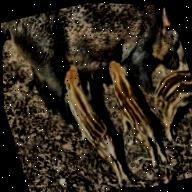boar: (0, 0, 191, 122), (89, 36, 163, 172), (48, 49, 124, 179), (143, 57, 192, 143)
